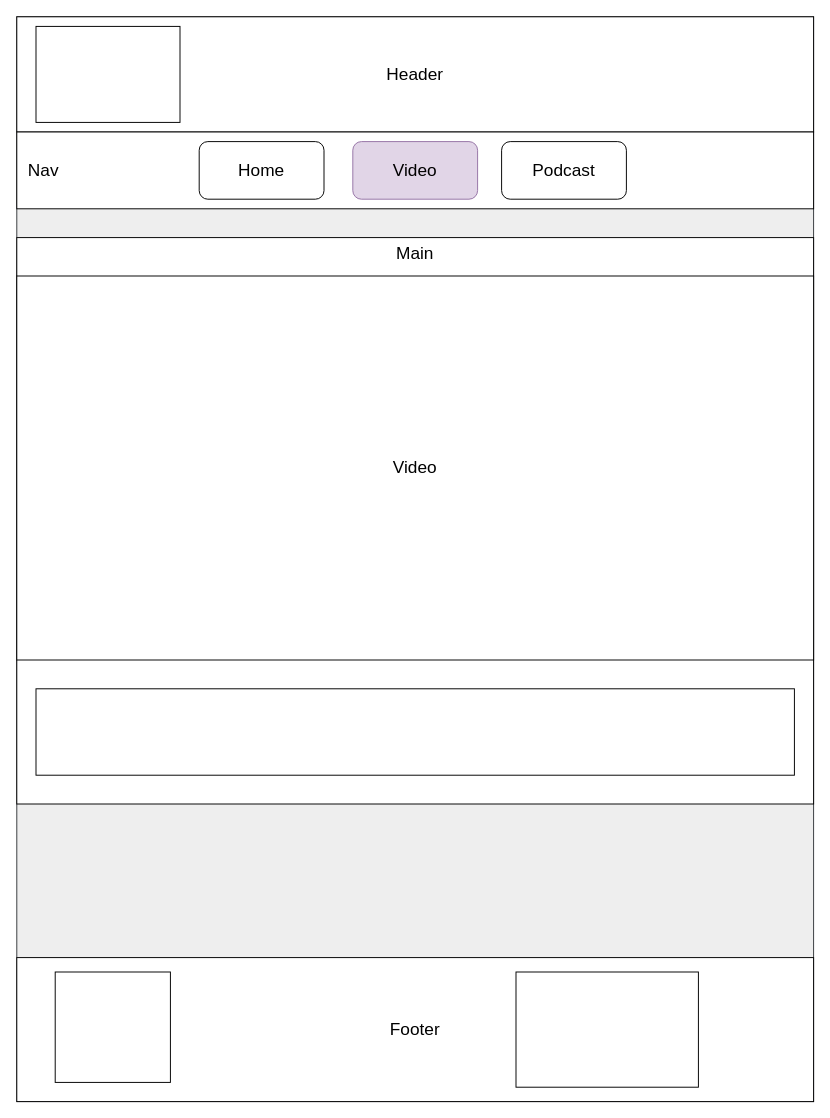
Some shapes in this 830 by 1118 pixel diagram are drawn without their labels. Each missing label, with the centre of its shape:
Aside: (414,731)
Enlaces: (606,1029)
Info del equipo: (112,1026)
Logo: (107,73)
